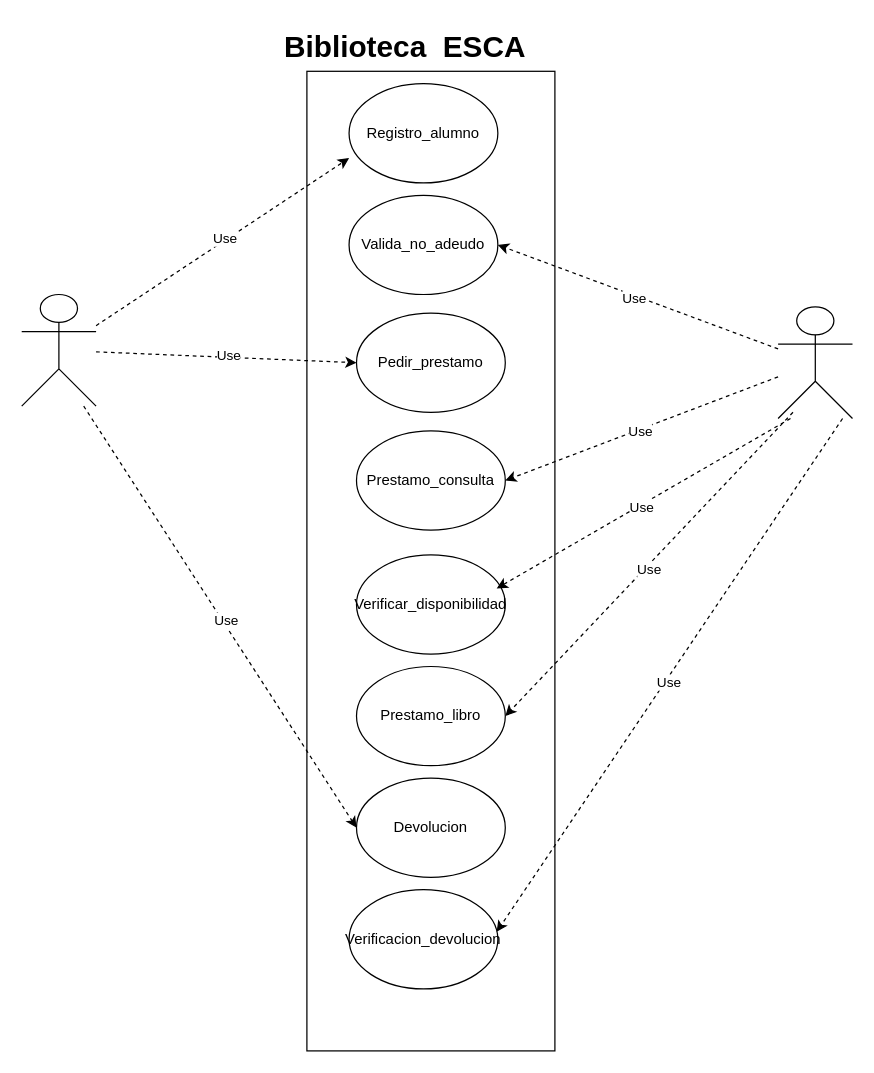
This 874x1073 diagram has some shape labels left out. The shapes that lost their labels are listed below. From the top down, each one's centre as x and y in pixels, then its label:
point 58,349: Alumno
point 814,362: Admin
